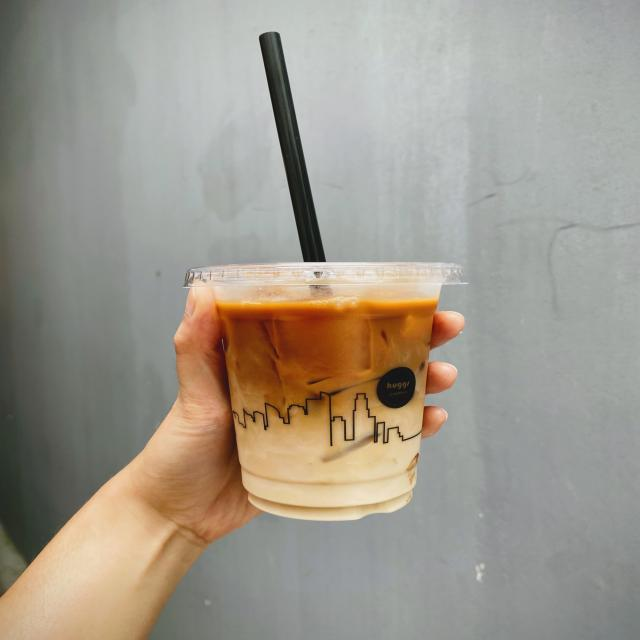cup: (179, 261, 473, 524)
